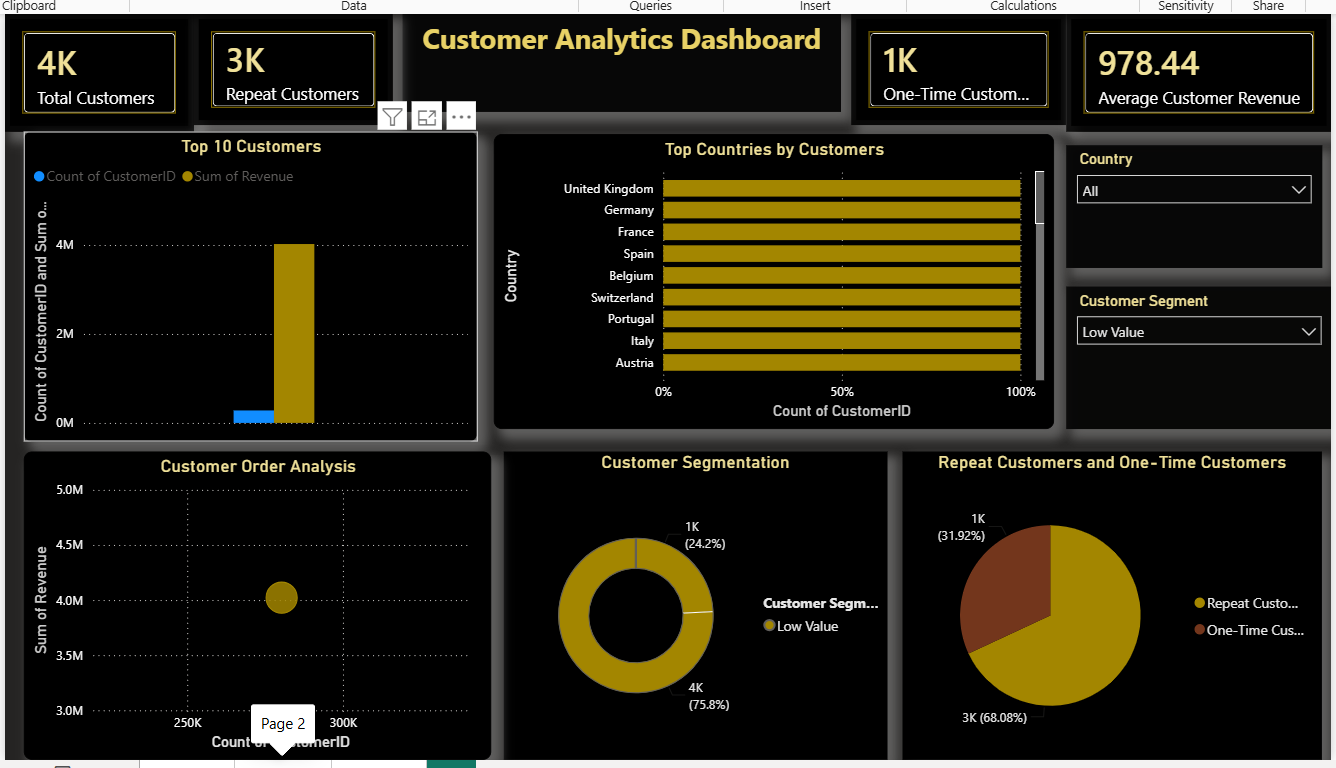

The dashboard page shown, as its layout file describes it:
{"tool":"powerbi","page":{"name":"Page 2","canvas":[1280,720],"ordinal":1},"visuals":[{"type":"textbox","box":[383.6,0,423.5,94.1],"z":0},{"type":"cardVisual","fields":{"Data":["ecommerce_ba online_retail.Total Customers"]},"box":[0,0,182.5,113.9],"z":1000},{"type":"cardVisual","fields":{"Data":["ecommerce_ba online_retail.Repeat Customers"]},"box":[182.5,0,192.1,107],"z":2000},{"type":"cardVisual","fields":{"Data":["ecommerce_ba online_retail.One-Time Customers"]},"box":[816.8,0,207.5,107.4],"z":3000},{"type":"cardVisual","fields":{"Data":["ecommerce_ba online_retail.Average Customer Revenue"]},"box":[1023.7,0,256.6,113.9],"z":4000},{"type":"clusteredColumnChart","title":"Top 10 Customers","fields":{"Y":["CountNonNull(ecommerce_ba online_retail.CustomerID)","Sum(ecommerce_ba online_retail.Revenue)"]},"box":[18.1,113.4,437.9,299.2],"z":5000},{"type":"donutChart","title":"Customer Segmentation","fields":{"Y":["ecommerce_ba online_retail.One-Time Customers","ecommerce_ba online_retail.Total Customers"],"Category":["ecommerce_ba online_retail.Customer Segment"]},"box":[481.6,422.6,370.5,297.8],"z":6000},{"type":"pieChart","fields":{"Y":["ecommerce_ba online_retail.Repeat Customers","ecommerce_ba online_retail.One-Time Customers"]},"box":[865.9,422.6,404.8,297.8],"z":7000},{"type":"hundredPercentStackedBarChart","title":"Top Countries by Customers","fields":{"Category":["ecommerce_ba online_retail.Country"],"Y":["CountNonNull(ecommerce_ba online_retail.CustomerID)"]},"box":[471.7,115.8,540.5,284.7],"z":8000},{"type":"scatterChart","title":"Customer Order Analysis","fields":{"X":["CountNonNull(ecommerce_ba online_retail.CustomerID)"],"Y":["Sum(ecommerce_ba online_retail.Revenue)"],"Size":["Sum(ecommerce_ba online_retail.Quantity)"]},"box":[17.8,422.6,451.5,297.8],"z":9000},{"type":"slicer","fields":{"Values":["ecommerce_ba online_retail.Country"]},"box":[1023.7,126.2,247,118],"z":10000},{"type":"slicer","fields":{"Values":["ecommerce_ba online_retail.Customer Segment"]},"box":[1023.7,263.5,256.6,137.2],"z":11000}]}

Visuals, with their boxes on the page's 1280x720 design canvas (x1, y1, x2, y2). These are canvas units, not pixel positions in the 1336x768 screenshot, which may show the page scaled, cropped or inside an application window:
textbox: l=384, t=0, r=807, b=94
cardVisual - ecommerce_ba online_retail.Total Customers: l=0, t=0, r=182, b=114
cardVisual - ecommerce_ba online_retail.Repeat Customers: l=182, t=0, r=375, b=107
cardVisual - ecommerce_ba online_retail.One-Time Customers: l=817, t=0, r=1024, b=107
cardVisual - ecommerce_ba online_retail.Average Customer Revenue: l=1024, t=0, r=1280, b=114
"Top 10 Customers" clusteredColumnChart: l=18, t=113, r=456, b=413
"Customer Segmentation" donutChart: l=482, t=423, r=852, b=720
pieChart - ecommerce_ba online_retail.Repeat Customers x ecommerce_ba online_retail.One-Time Customers: l=866, t=423, r=1271, b=720
"Top Countries by Customers" hundredPercentStackedBarChart: l=472, t=116, r=1012, b=400
"Customer Order Analysis" scatterChart: l=18, t=423, r=469, b=720
slicer - ecommerce_ba online_retail.Country: l=1024, t=126, r=1271, b=244
slicer - ecommerce_ba online_retail.Customer Segment: l=1024, t=264, r=1280, b=401
